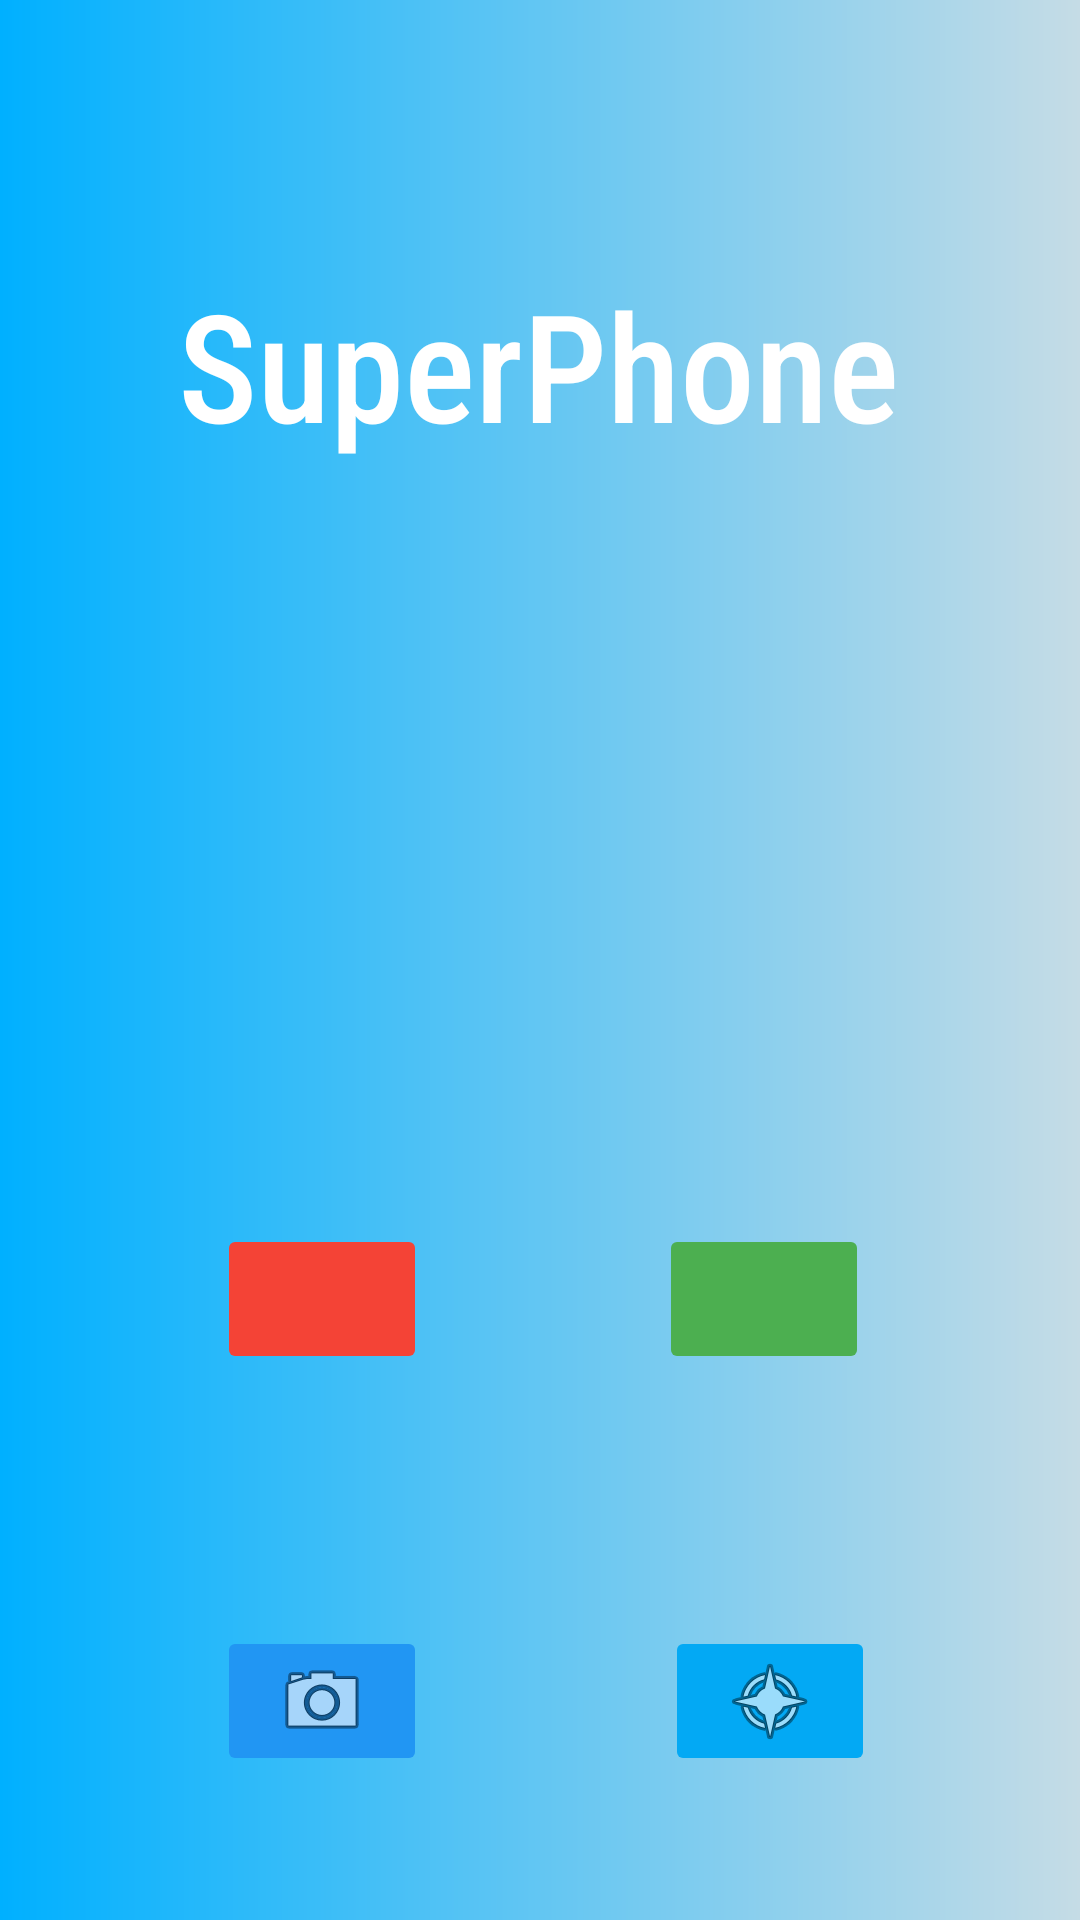

Screen size 1080x1920. Icon name, then its center in pixels as (x=x, y=y):
camera: (x=322, y=1701)
compass: (x=770, y=1701)
